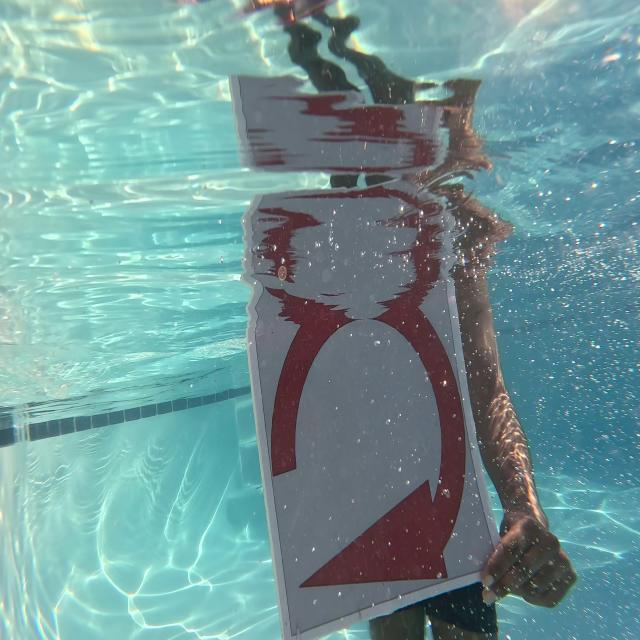red_side: (250, 300, 495, 607)
